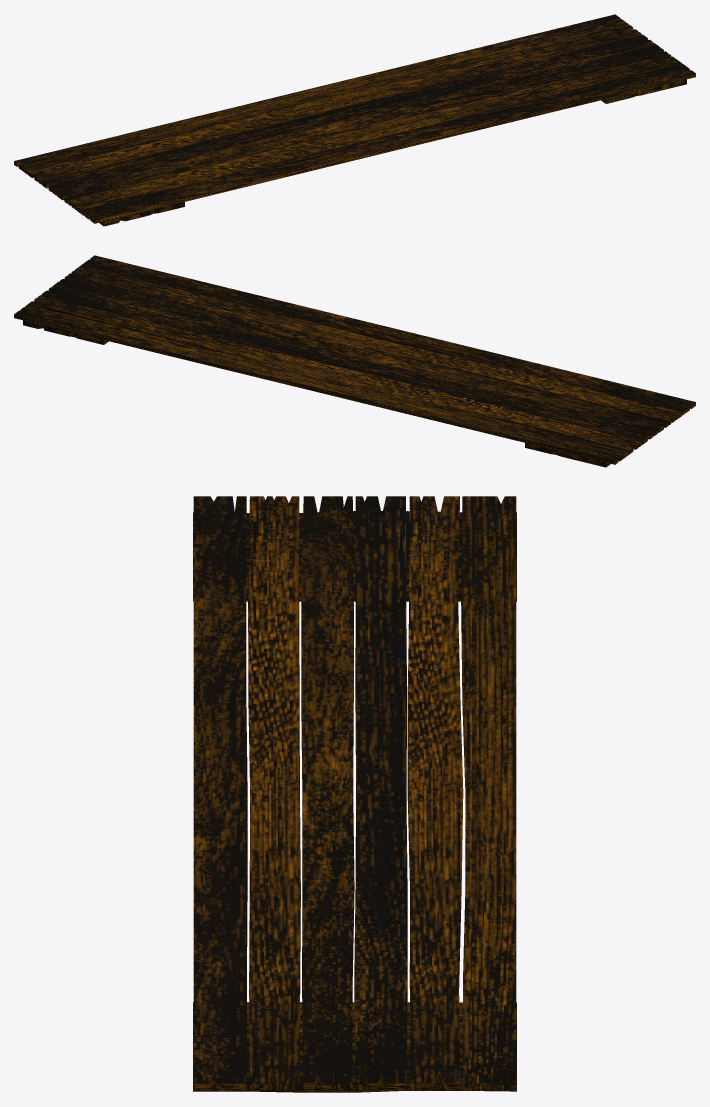
File: Balcony.fbx
3 renders of one model, top to bottom at view 1: azimuth 30°, elevation 25°; view 2: azimuth 150°, elevation 25°; view 3: azimuth 270°, elevation 25°, orthographic. The views are drawn at different scales.
Visible parts, largest first — view 1: Balcony; view 2: Balcony; view 3: Balcony.
Boxes of the visible parts, <box> form: Balcony: <box>14,14,695,226</box>; Balcony: <box>14,255,695,467</box>; Balcony: <box>193,496,516,1092</box>.
Size of the model in its own units: 1707 by 25.05 by 398.
1 material, 1 textured.
